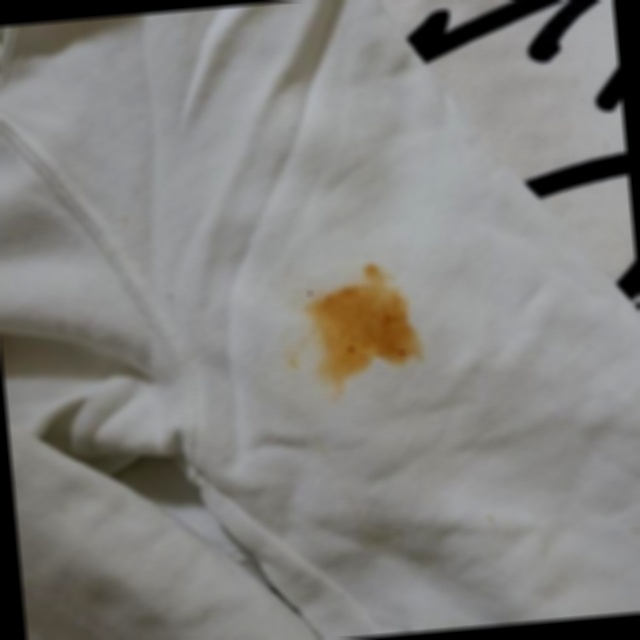kimchi: (267, 248, 430, 408)
